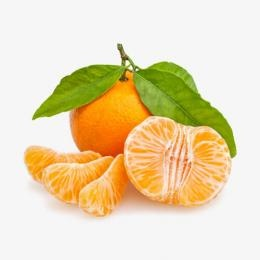mandarin: (124, 114, 230, 208), (69, 70, 167, 160), (44, 155, 112, 204), (24, 144, 102, 184), (80, 155, 128, 217)
